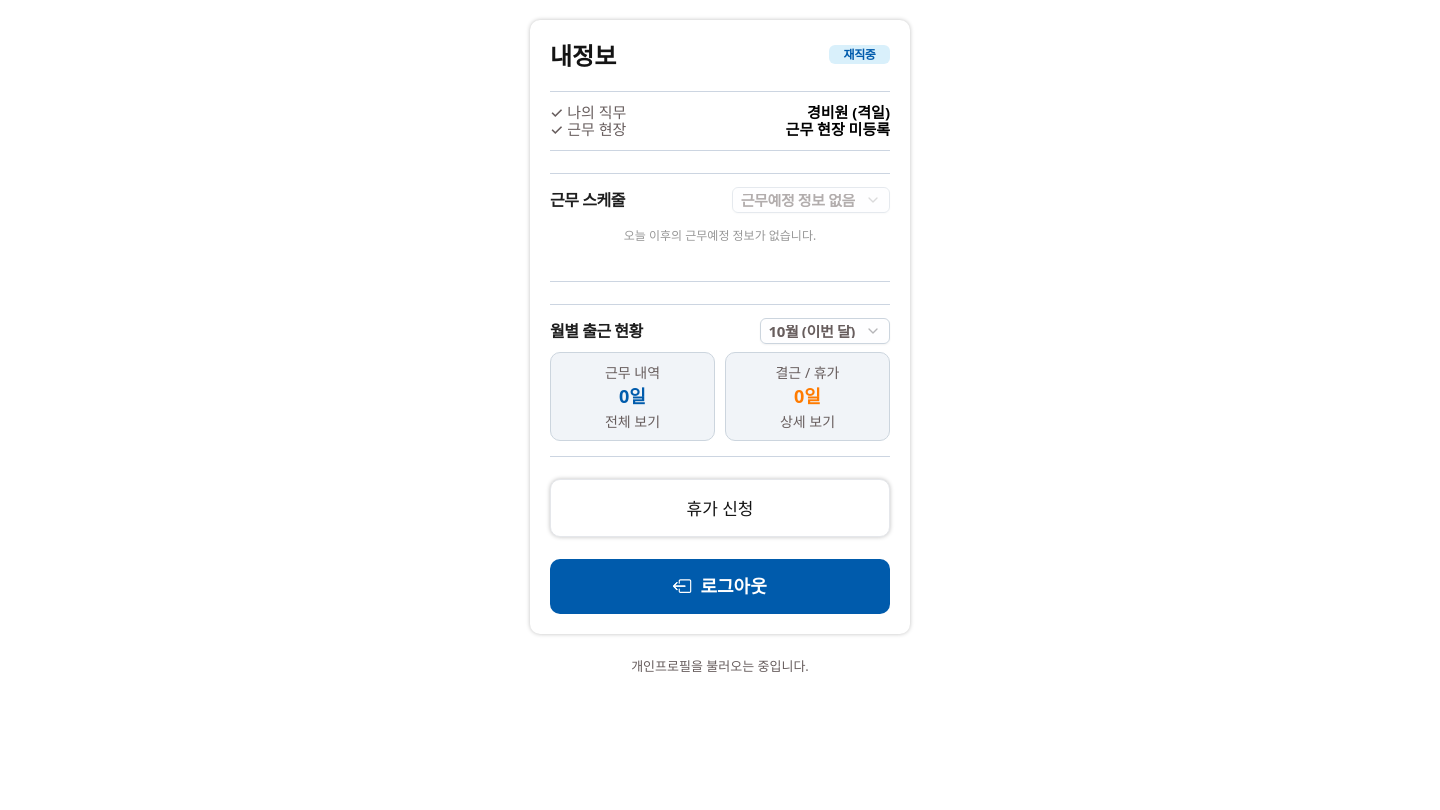
Scenario: guard profile page › opens the work and absence detail modals from the monthly cards
Click the button "근무 내역 0일 전체 보기" at (632, 396), box [550,352,715,441]
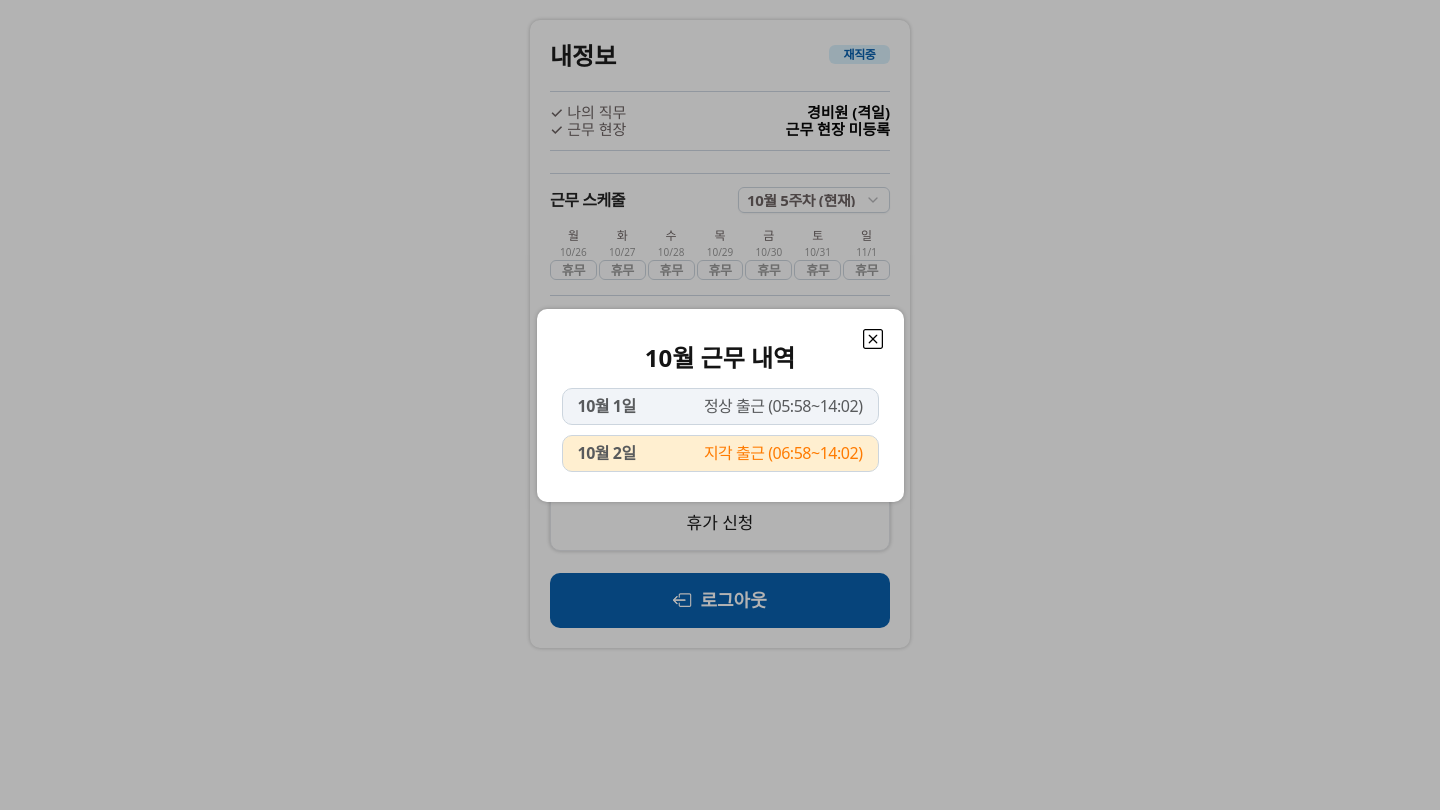
Check: the text "정상 출근 (05:58~14:02)" is shown, box [704,394,862,416]
Check: the text "지각 출근 (06:58~14:02)" is shown, box [704,442,862,464]
Click the button named "닫기" at (873, 339), box [862,328,884,350]
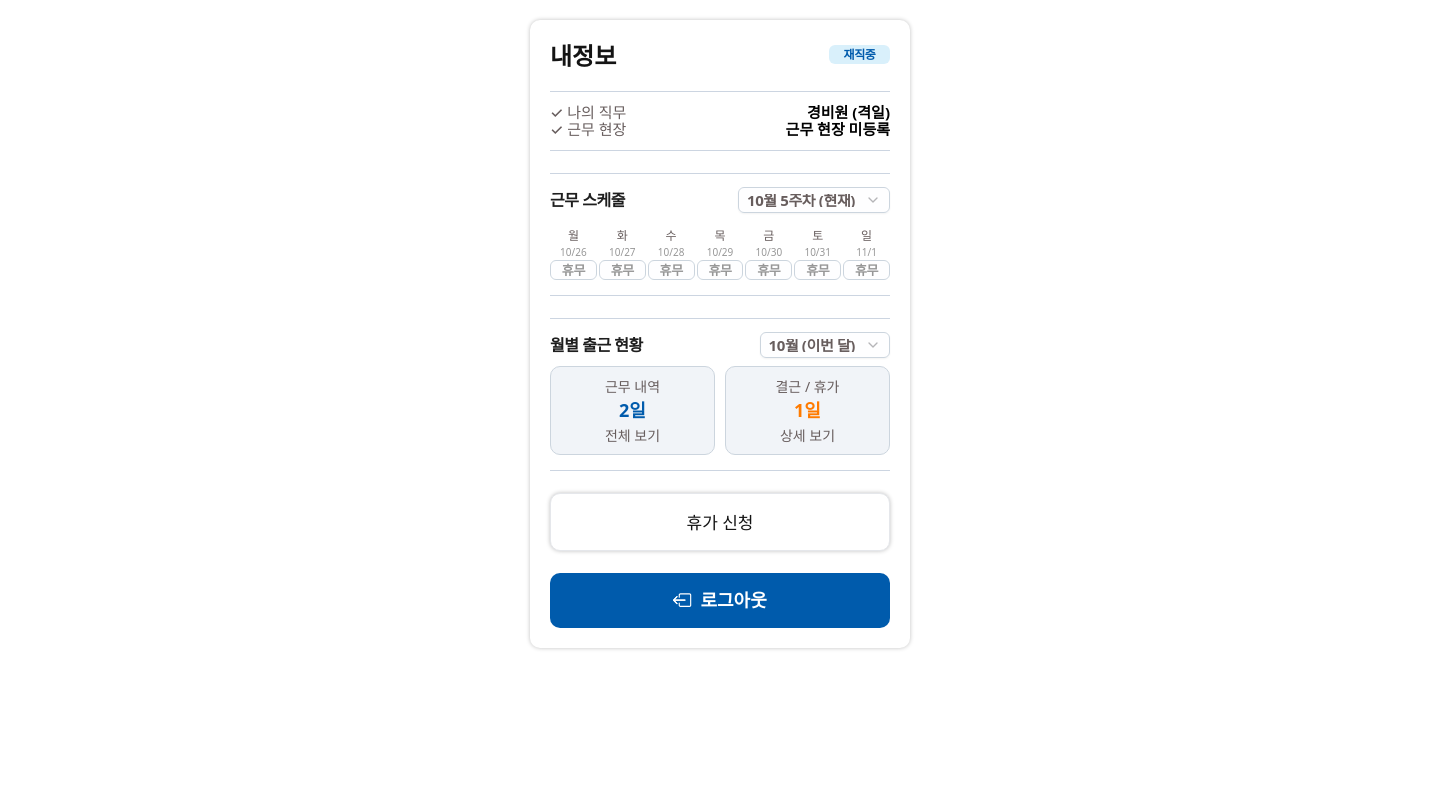
Check: the dialog is gone
Click the button "결근 / 휴가 1일 상세 보기" at (808, 410), box [725,366,890,455]
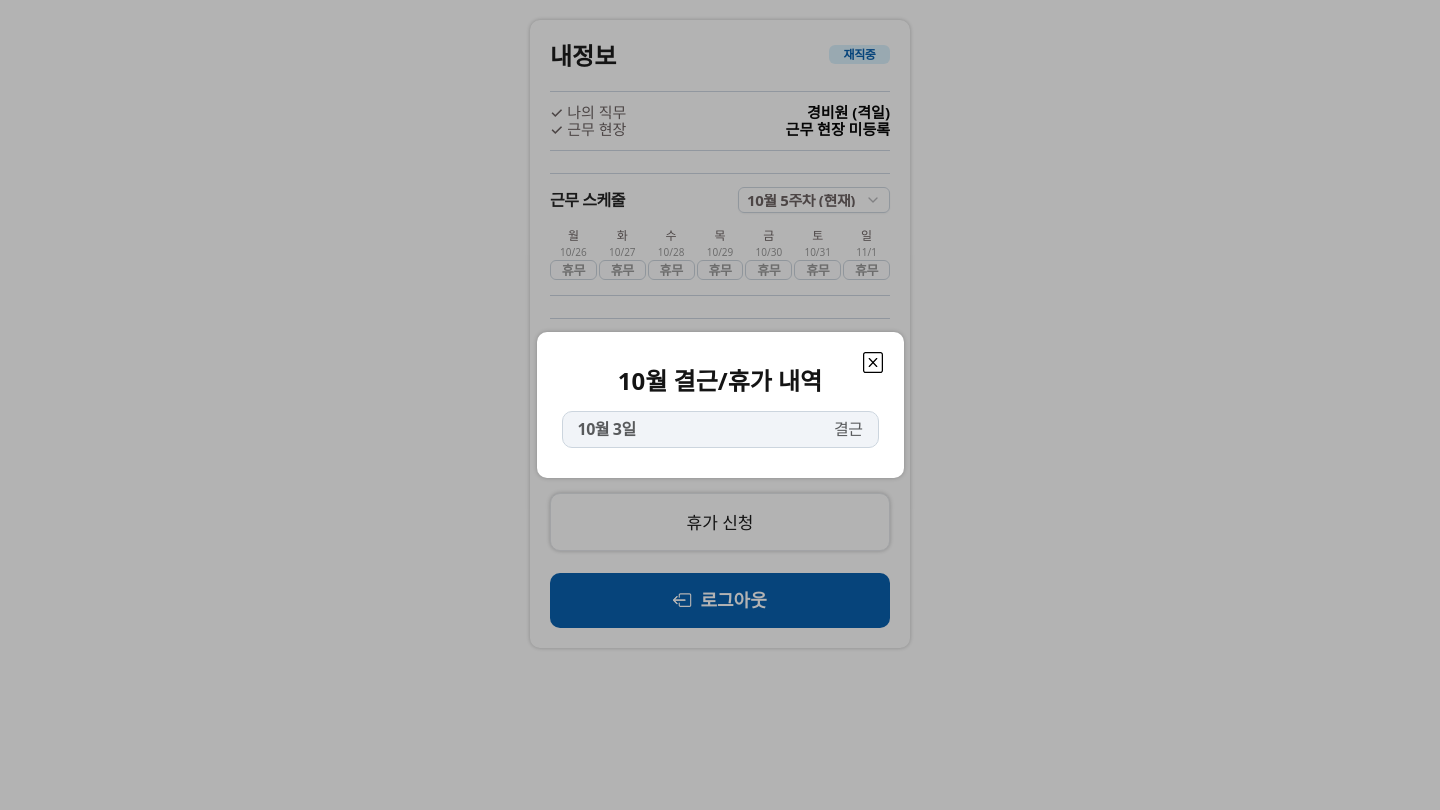
Check: the text "결근" is shown, box [834,418,862,440]
Click the button named "닫기" at (873, 362), box [862,352,884,373]
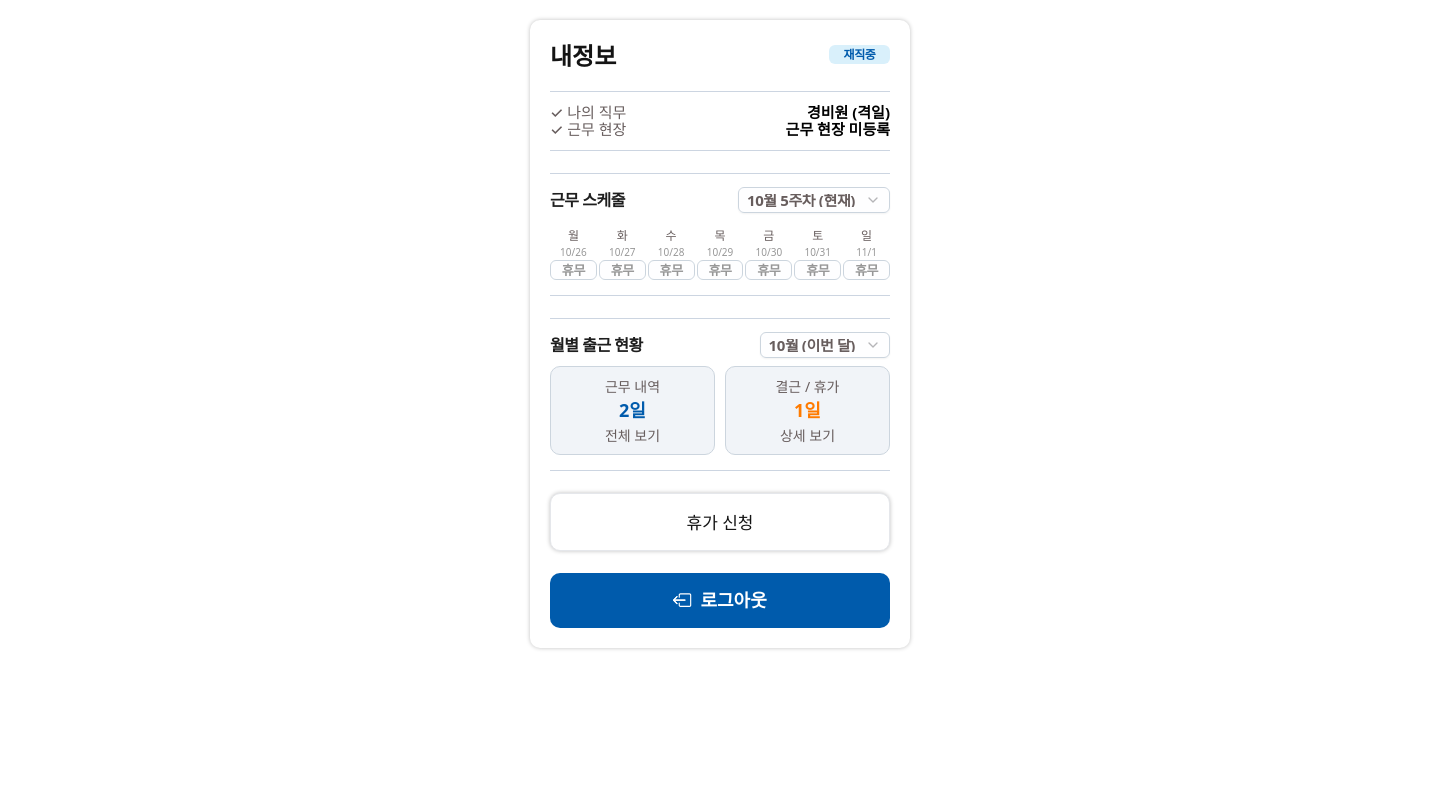
Check: the dialog is gone
Click the button "결근 / 휴가 1일 상세 보기" at (808, 410), box [725,366,890,455]
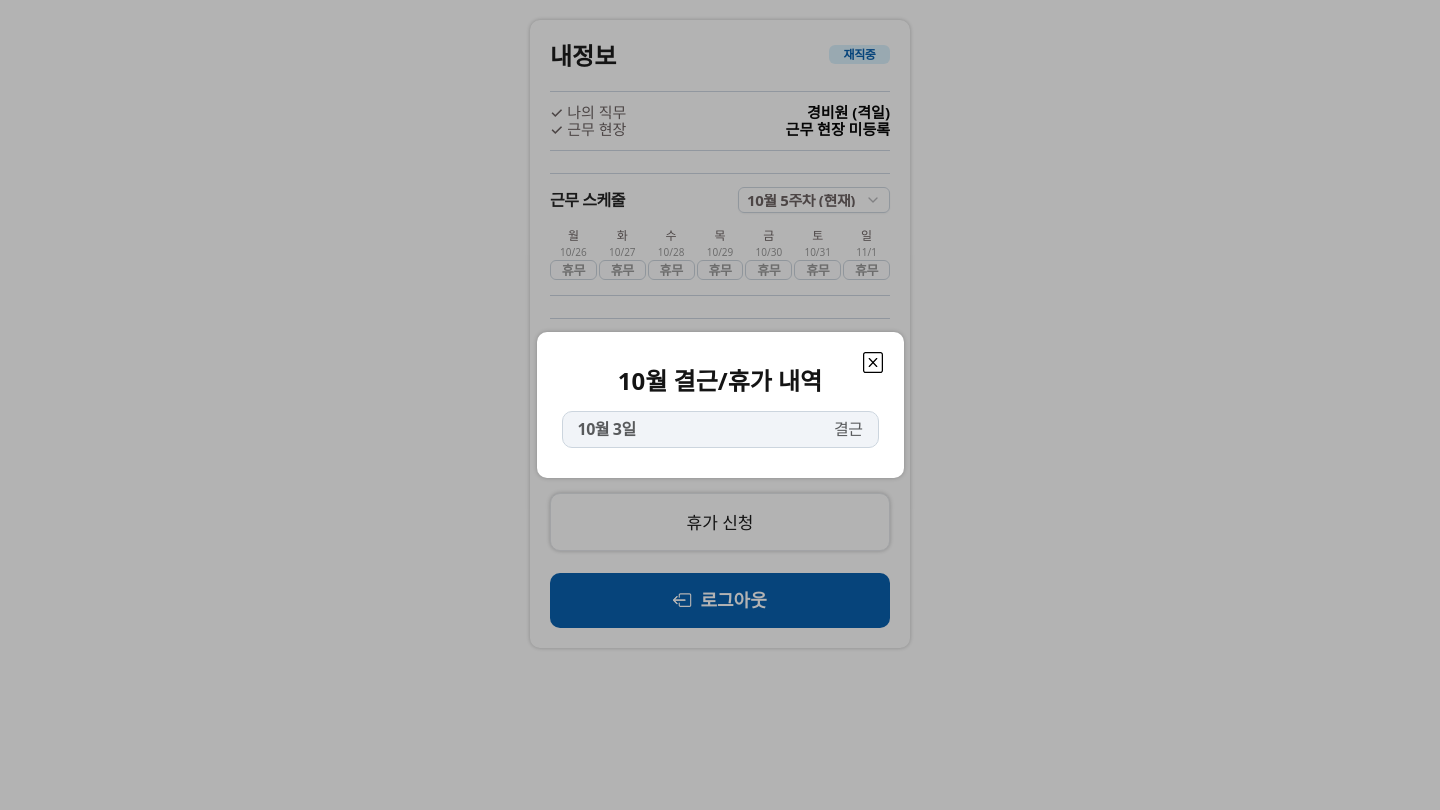
Press Escape
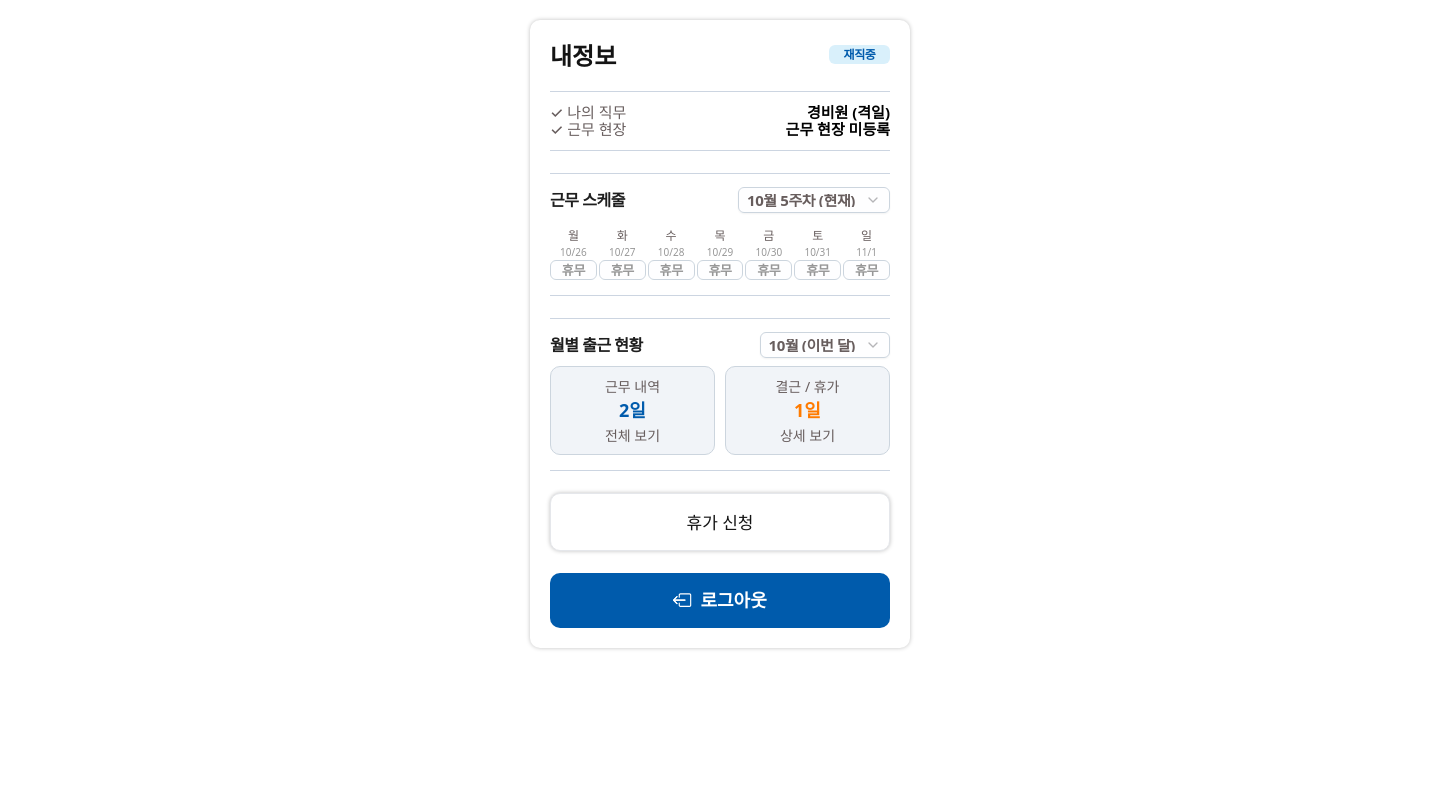
Check: the dialog is gone
